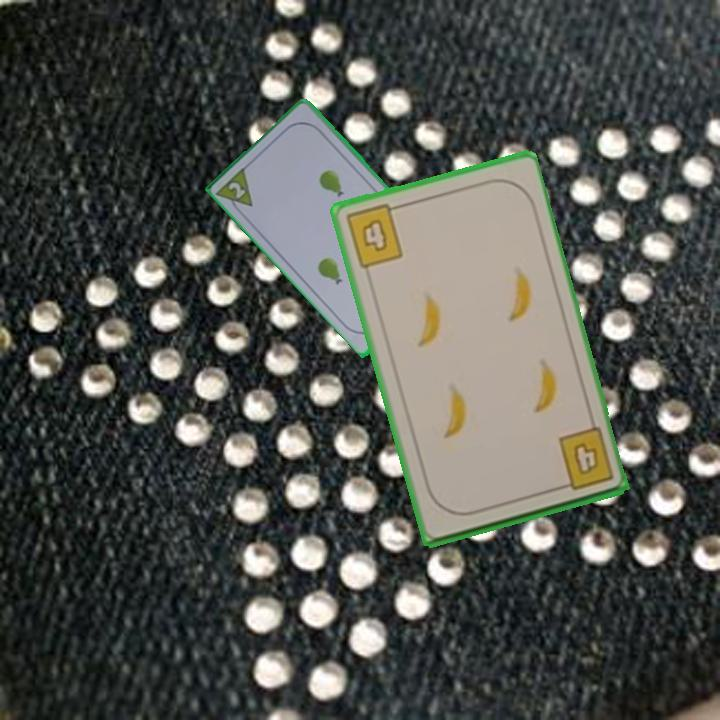2p: (225, 178, 249, 202)
4b: (341, 200, 406, 271), (552, 424, 617, 494)
